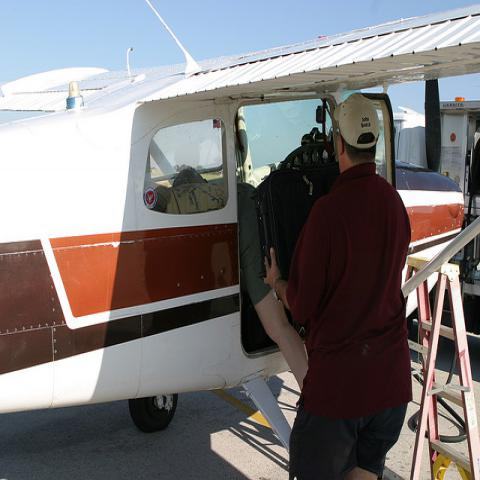truck: (394, 100, 479, 221)
